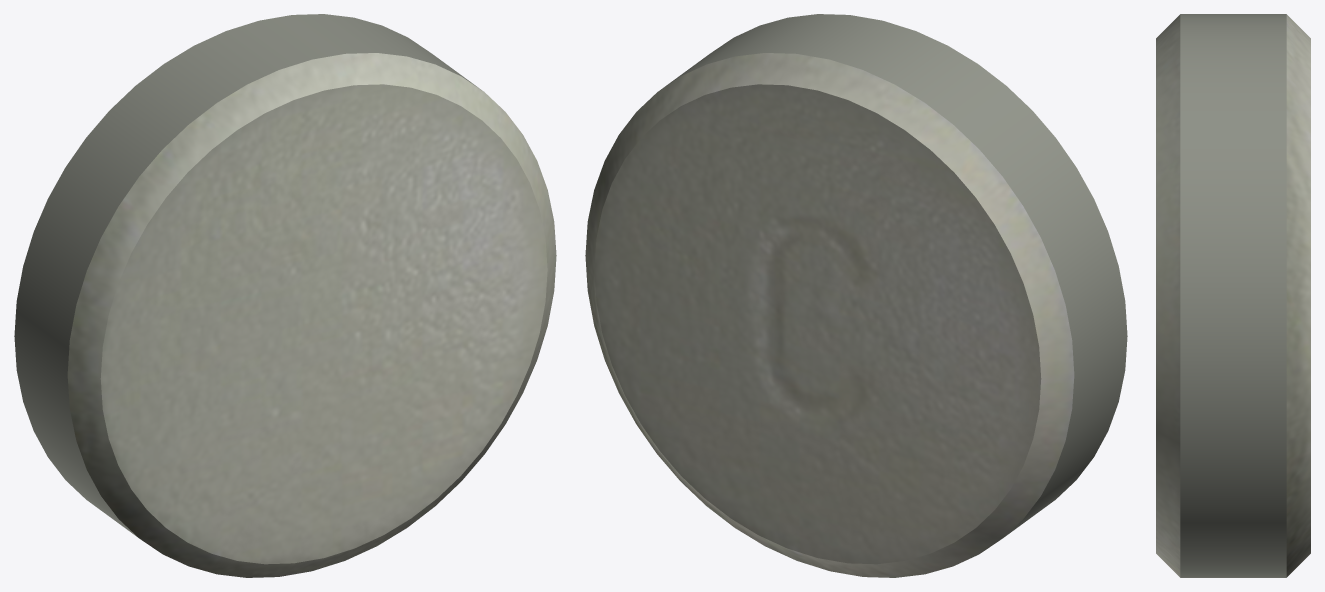
File: 20140311GOPHDRGPT01880.fbx
3 renders of one model, left to right at view 1: azimuth 30°, elevation 25°; view 2: azimuth 150°, elevation 25°; view 3: azimuth 270°, elevation 25°, orthographic.
Visible parts, largest first — view 1: 貝茲圓; view 2: 貝茲圓; view 3: 貝茲圓.
Boxes of the visible parts, box(x1,y1,x2,y2) form: 貝茲圓: box(14, 14, 556, 577); 貝茲圓: box(585, 14, 1127, 577); 貝茲圓: box(1156, 14, 1310, 577).
Bounding box in the file's own units: 1.09 × 1.09 × 0.2979.
